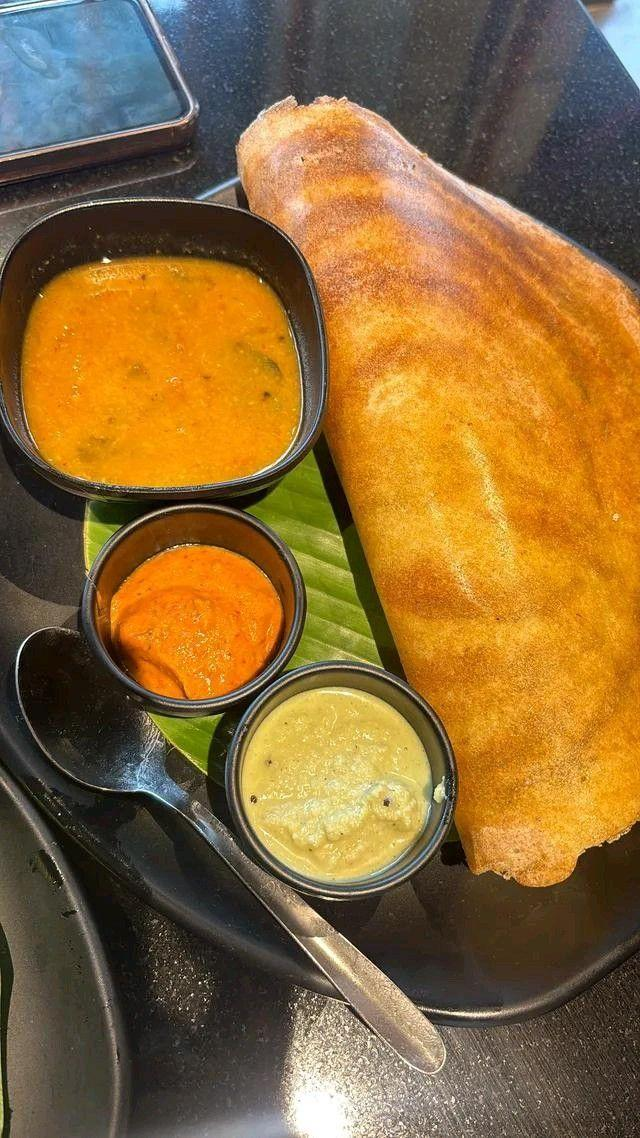dosa: (273, 109, 640, 864)
